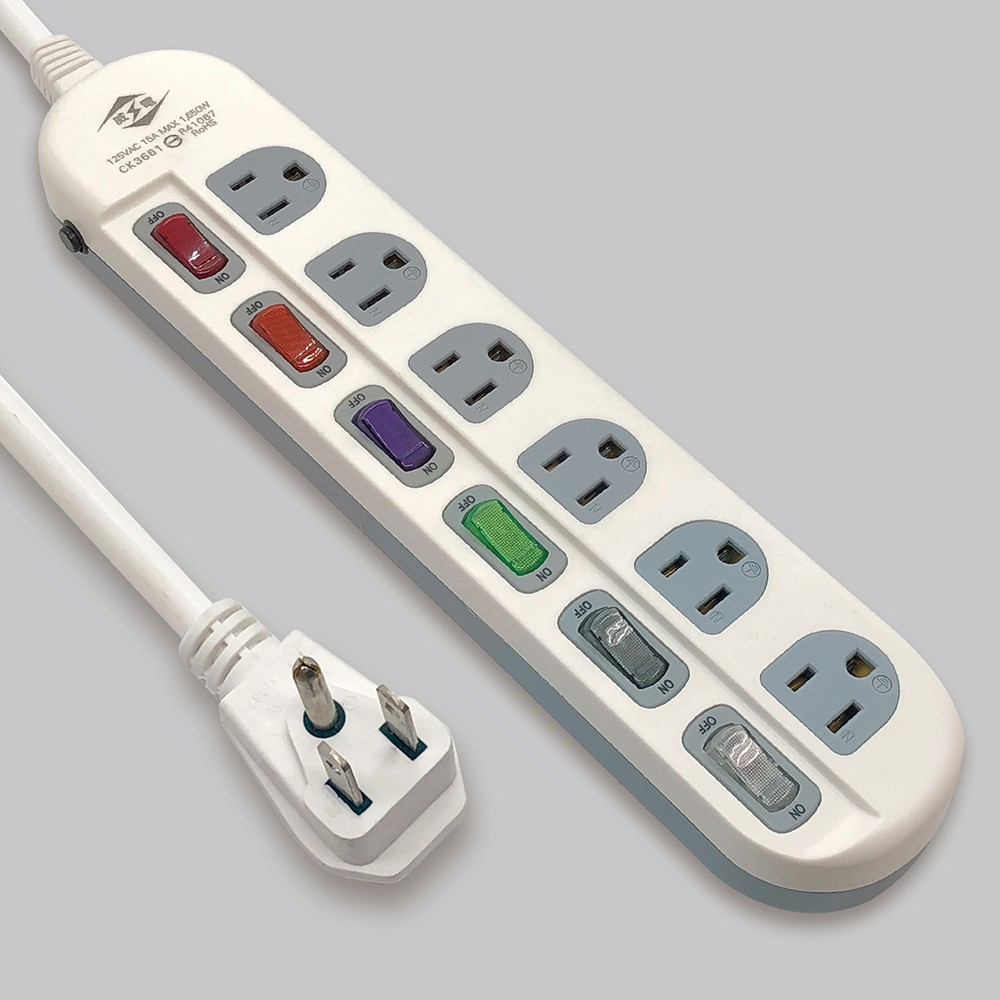socket: (1, 1, 966, 915)
